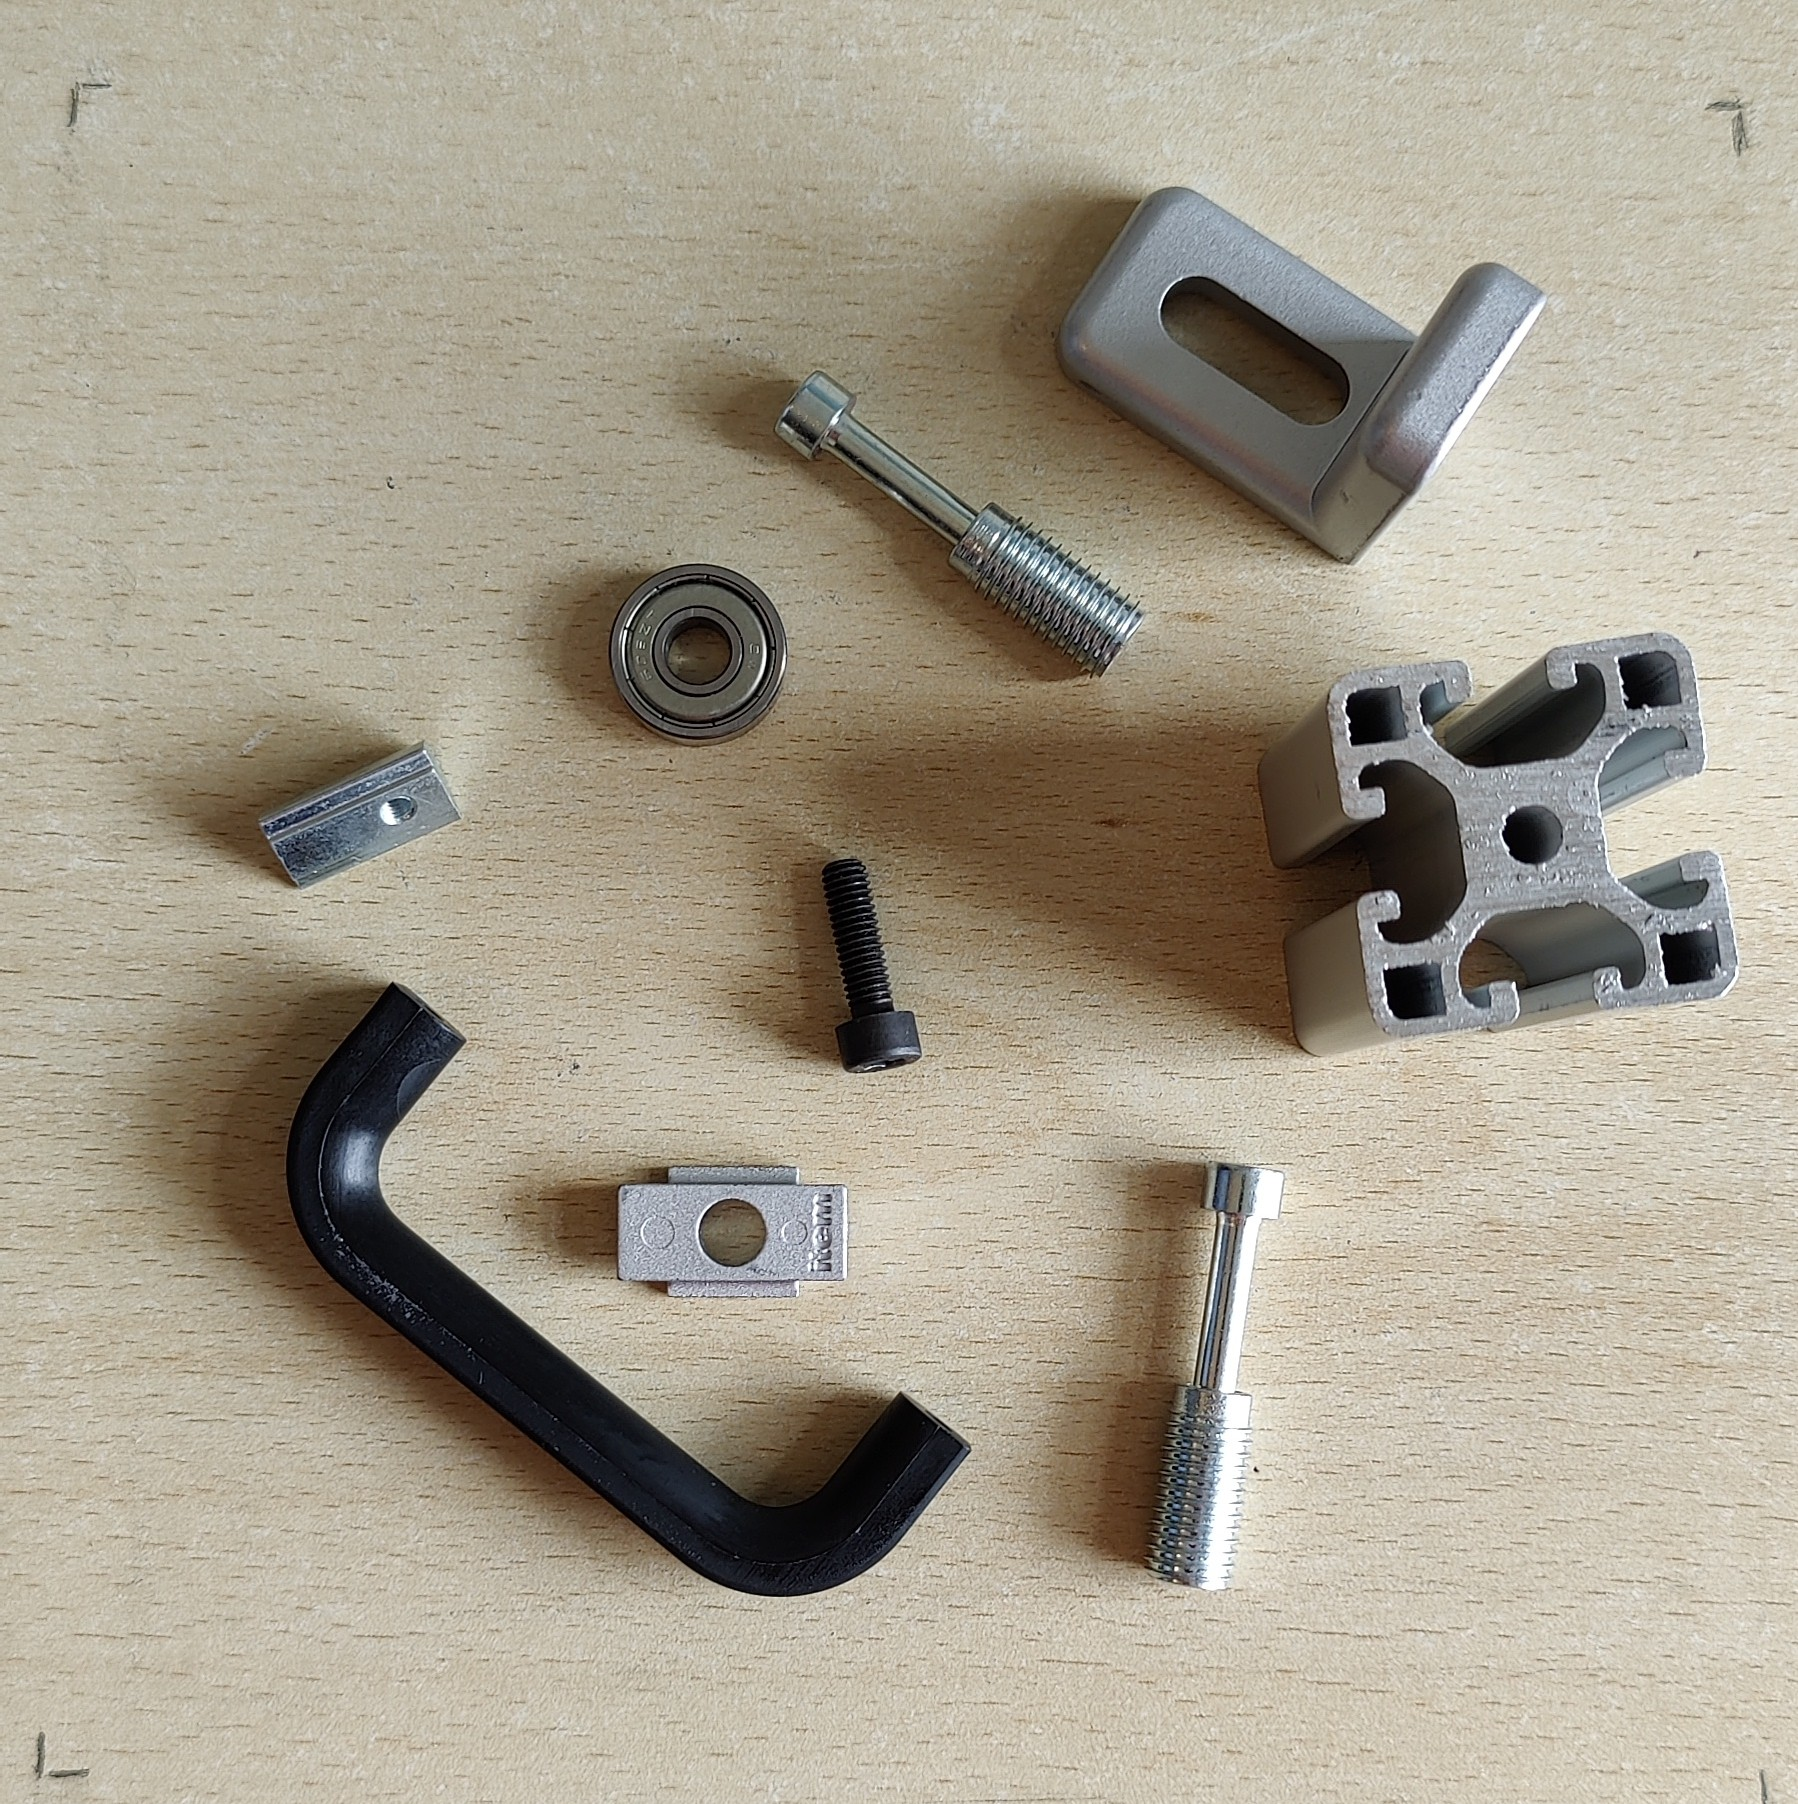Aluminium Extension: (1255, 629, 1739, 1060)
Ball Bearing: (606, 560, 789, 751)
Multiwinkel: (1050, 186, 1553, 570)
Pull Handle: (282, 978, 975, 1597)
Shoulder Socket Head Cap Screw: (772, 369, 1148, 681), (1139, 1157, 1288, 1593)
Socket Head Cap Screw: (817, 853, 925, 1075)
T Nut Square: (614, 1160, 851, 1304)
T Spring Nut: (255, 737, 466, 892)
